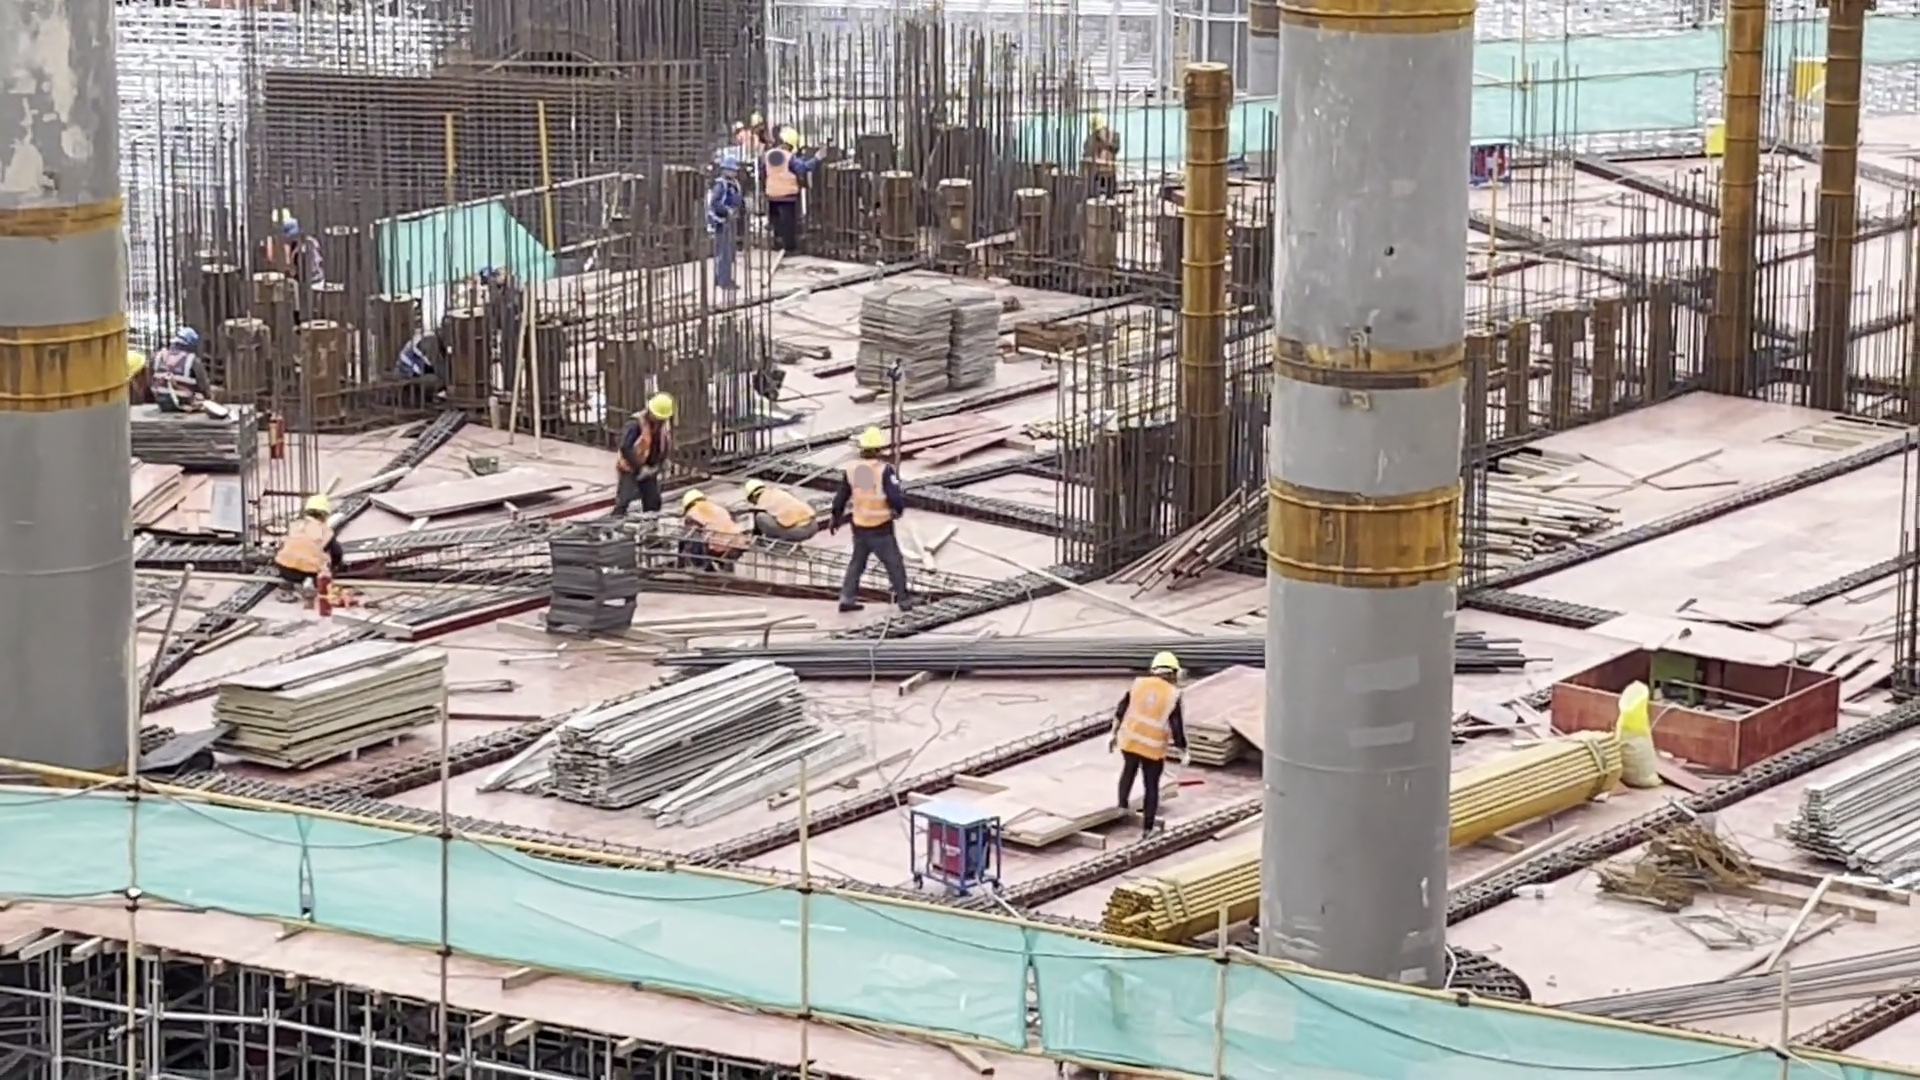helmet: (648, 387, 679, 423), (857, 423, 887, 450), (1148, 650, 1181, 673), (303, 492, 331, 514), (681, 487, 704, 510), (744, 478, 764, 500)
person: (826, 425, 915, 614), (1106, 643, 1191, 839), (762, 125, 826, 254), (271, 492, 342, 592), (613, 386, 671, 505), (744, 474, 817, 552), (709, 146, 748, 297), (680, 490, 751, 565), (155, 323, 206, 412)
vest: (1116, 678, 1187, 765), (850, 461, 905, 527), (270, 522, 333, 577), (759, 145, 810, 207), (618, 416, 671, 473), (158, 348, 205, 412), (690, 503, 742, 553), (759, 486, 818, 528)
